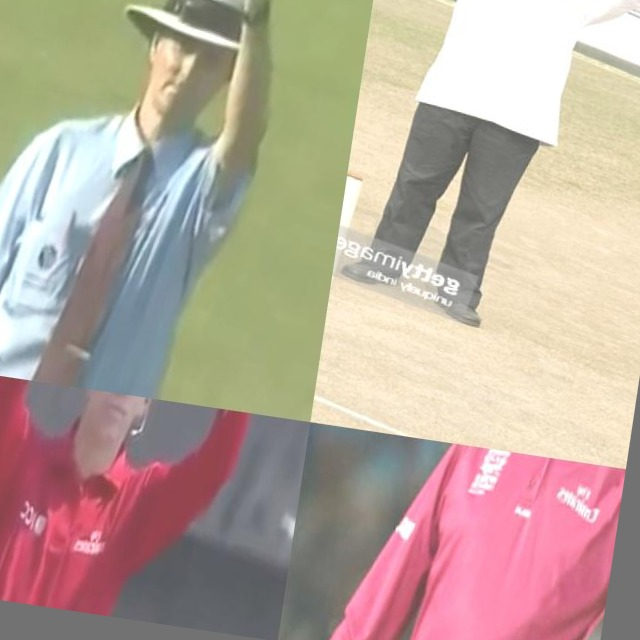No_Ball: (285, 423, 626, 640)
Out: (0, 0, 357, 419)
Six: (325, 0, 640, 371), (0, 368, 305, 640)
